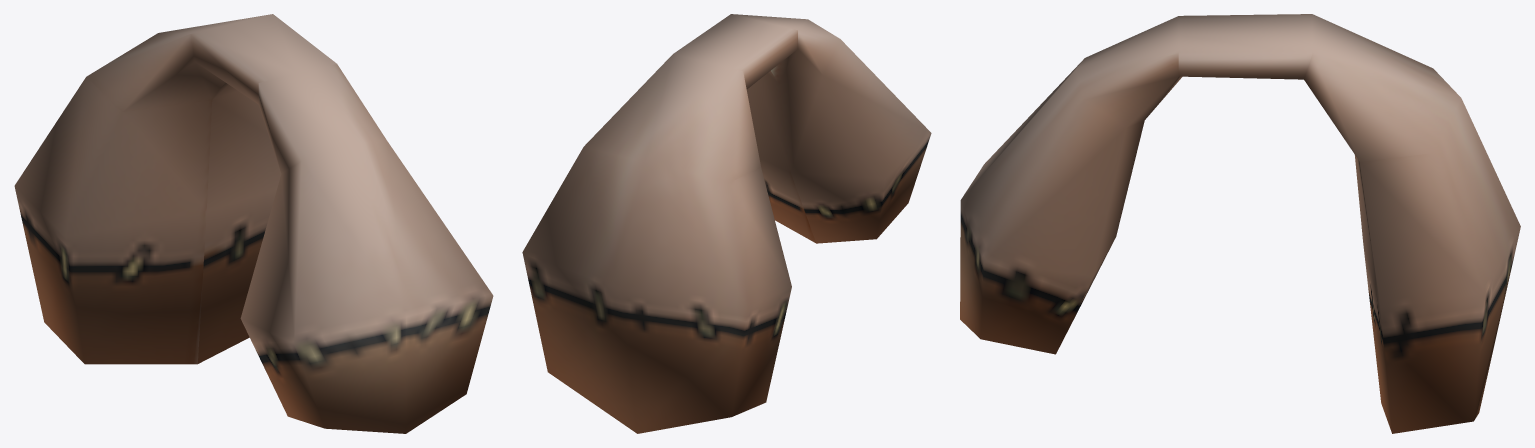
Rendered from traveler_back02.FBX.
3 renders of one model, left to right at view 1: azimuth 30°, elevation 25°; view 2: azimuth 150°, elevation 25°; view 3: azimuth 270°, elevation 25°, orthographic. The views are drawn at different scales.
Parts seen in each view (by area): view 1: traveler_back02; view 2: traveler_back02; view 3: traveler_back02.
Boxes of the visible parts, x1,y1,x2,y2 form: traveler_back02: (14, 14, 493, 433); traveler_back02: (522, 14, 931, 433); traveler_back02: (960, 14, 1520, 433).
Bounding box in the file's own units: 31.85 × 43.11 × 57.88.
